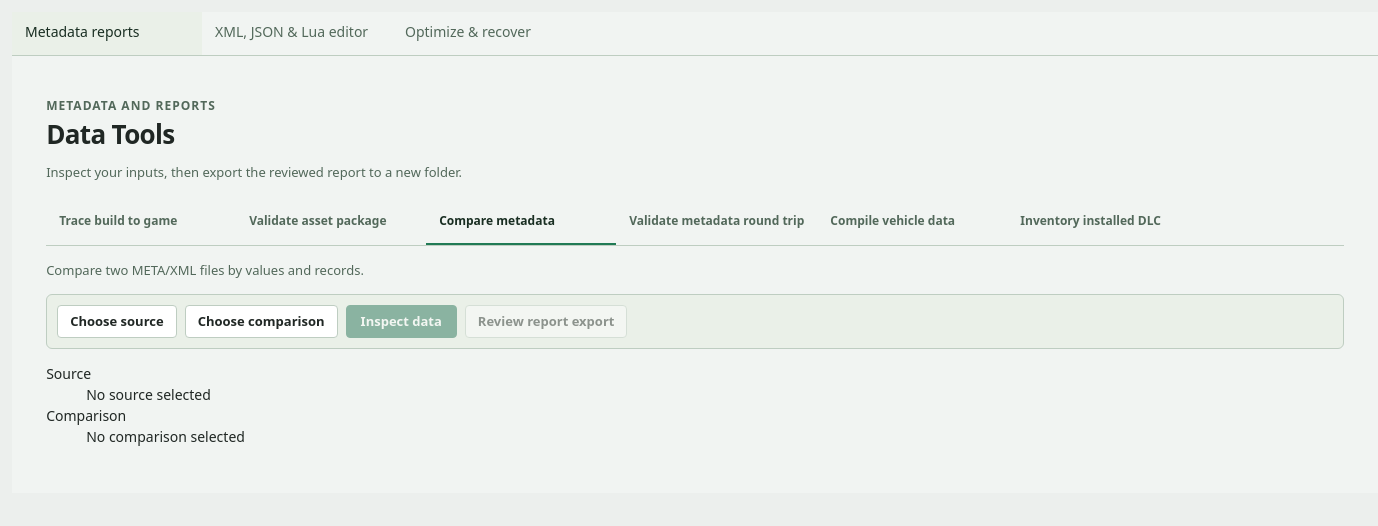
Test: does not adopt contradictory report evidence in data_tools
Click the button "Validate asset package". click: [331, 223]
box: [236,200,426,245]
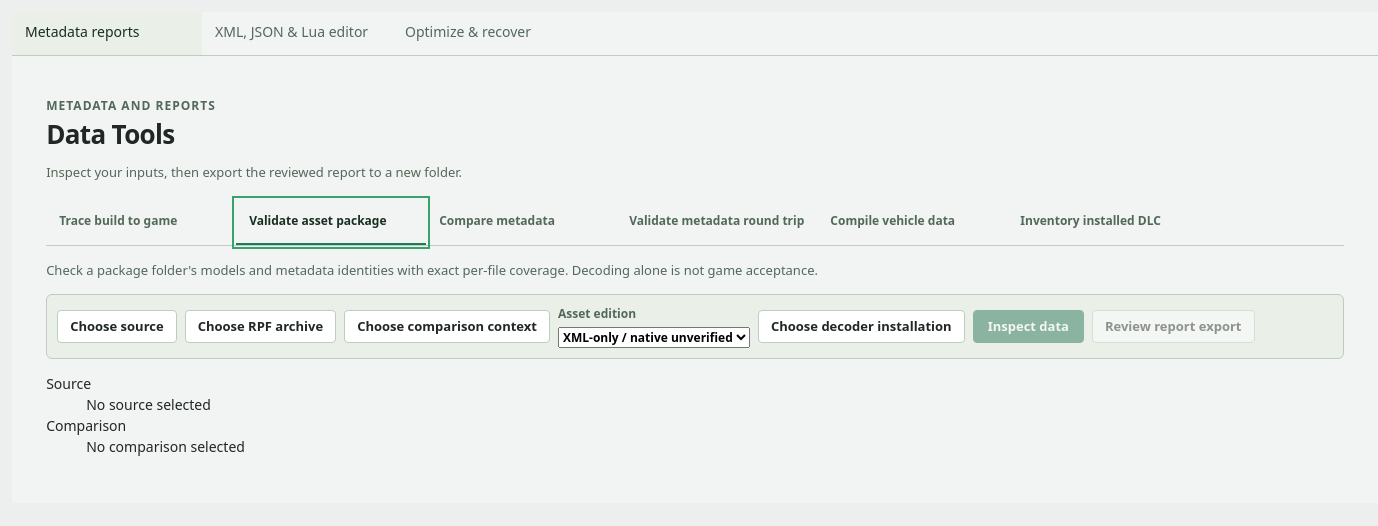
Click the button "Choose source". click: [117, 327]
box: [57,310,177,343]
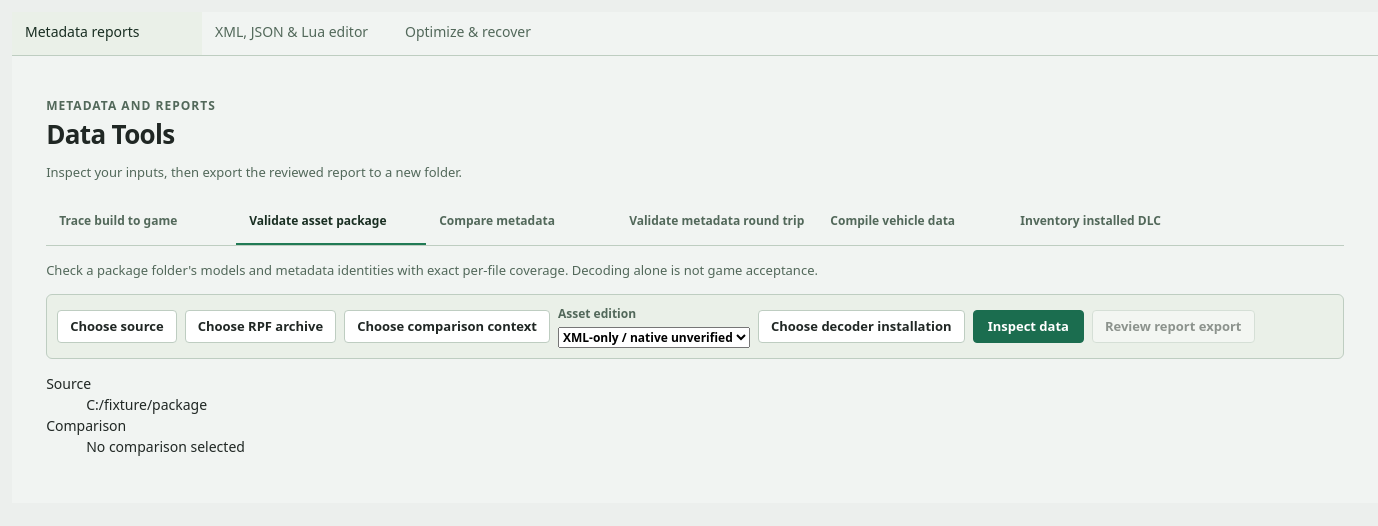
Click the button "Inspect data". click: [1028, 327]
box: [973,310,1084,343]
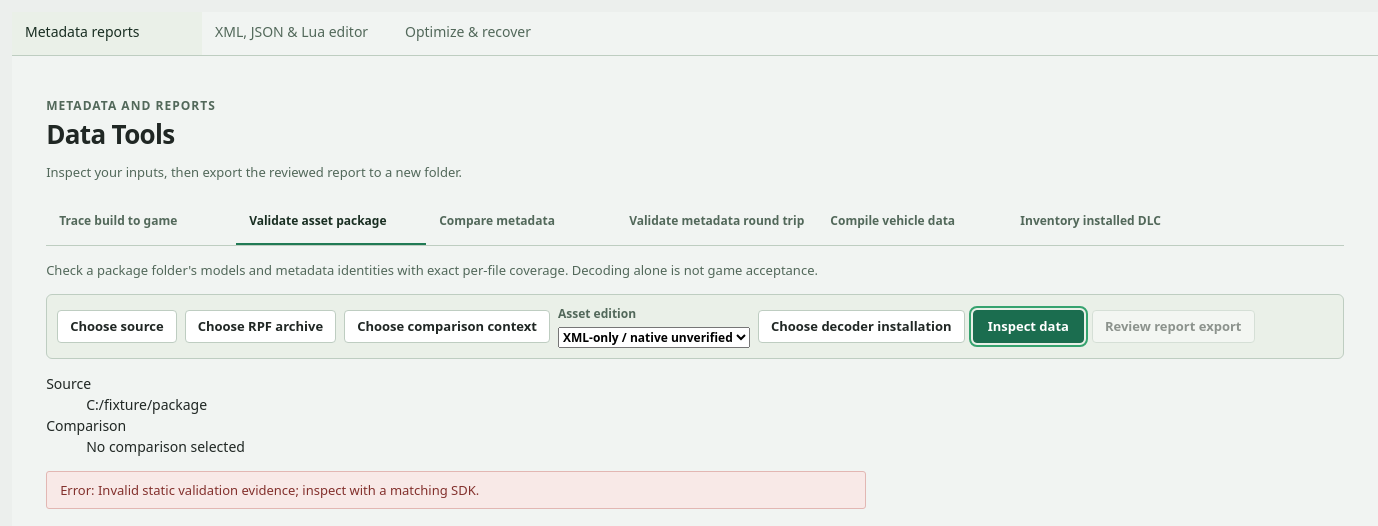
Expected: the button "Review report export" is disabled, [1092,310,1254,343]
Expected: the message shows "validation evidence", [60,481,479,499]
